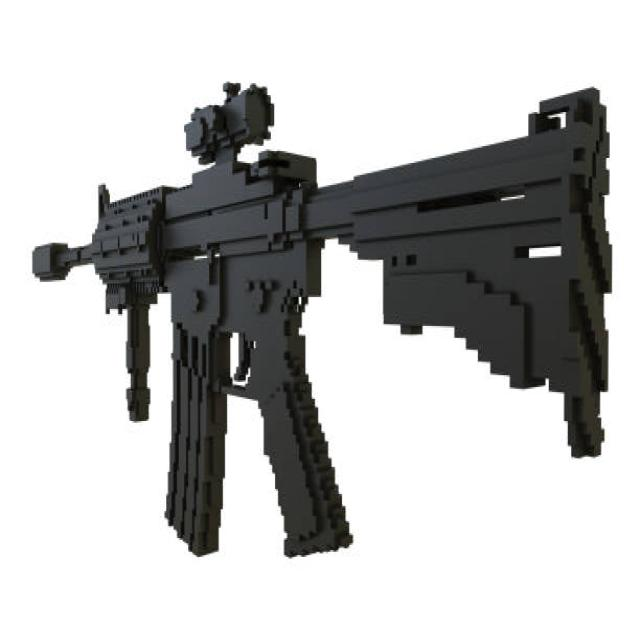rifle: (26, 54, 622, 564)
